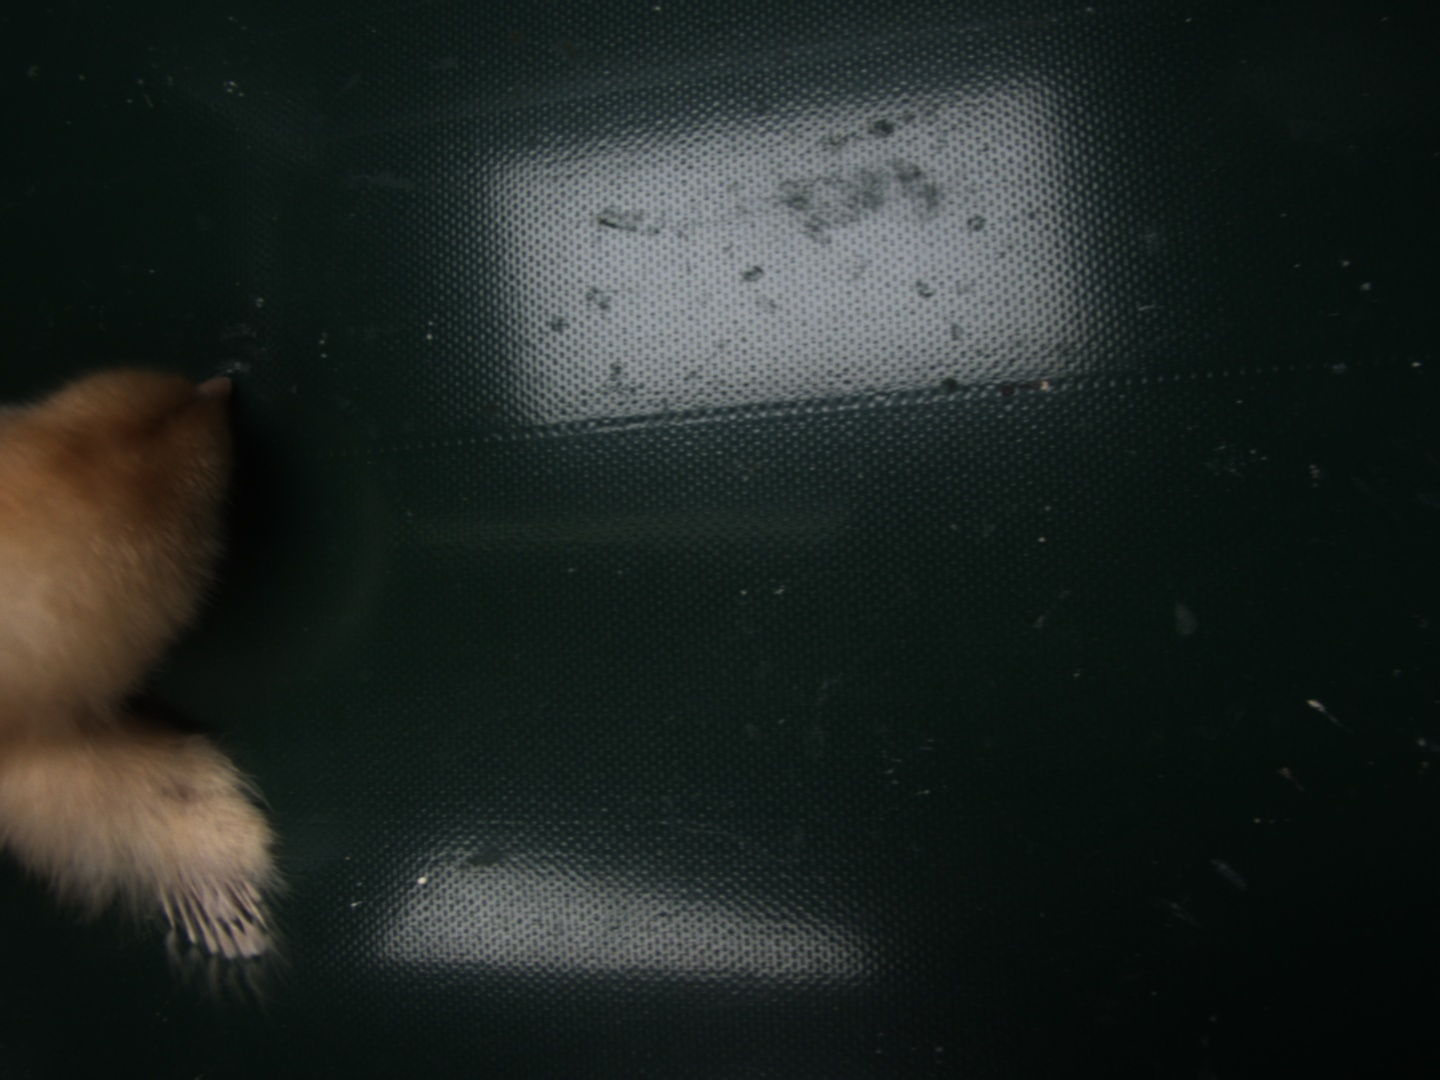female: (153, 871, 276, 962)
